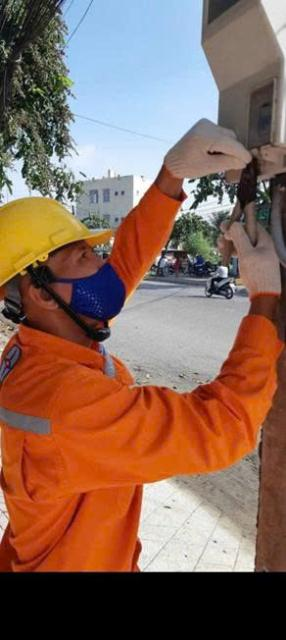gloves: (121, 112, 265, 187), (203, 195, 286, 313)
helmet: (0, 170, 113, 269)
